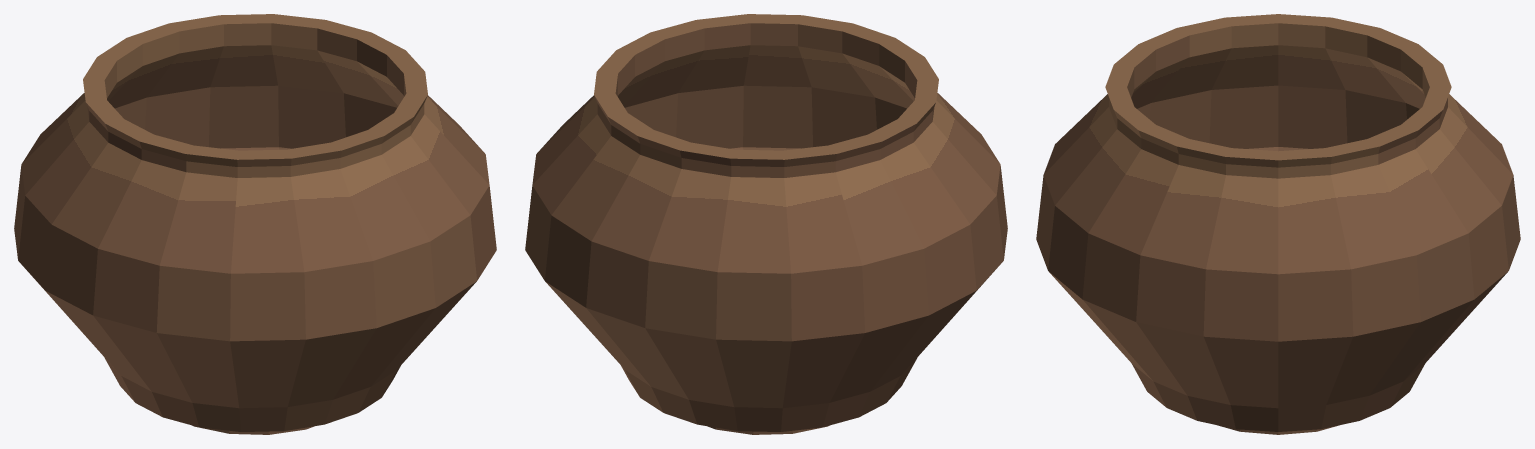
Rendered from vessel-echizen.glb.
3 views of the same model, side by side, from view 1: azimuth 30°, elevation 25°; view 2: azimuth 150°, elevation 25°; view 3: azimuth 270°, elevation 25° (orthographic).
Visible parts, largest first — view 1: vessel-echizen/complete-inner-outer-shell-with-drainage; view 2: vessel-echizen/complete-inner-outer-shell-with-drainage; view 3: vessel-echizen/complete-inner-outer-shell-with-drainage.
Part boxes in pixels (x1,y1,x2,y2): vessel-echizen/complete-inner-outer-shell-with-drainage: (14, 14, 496, 431); vessel-echizen/complete-inner-outer-shell-with-drainage: (525, 14, 1007, 431); vessel-echizen/complete-inner-outer-shell-with-drainage: (1036, 14, 1520, 431).
Bounding box in the file's own units: 0.4 × 0.278 × 0.4.
1 material, 1 textured.
